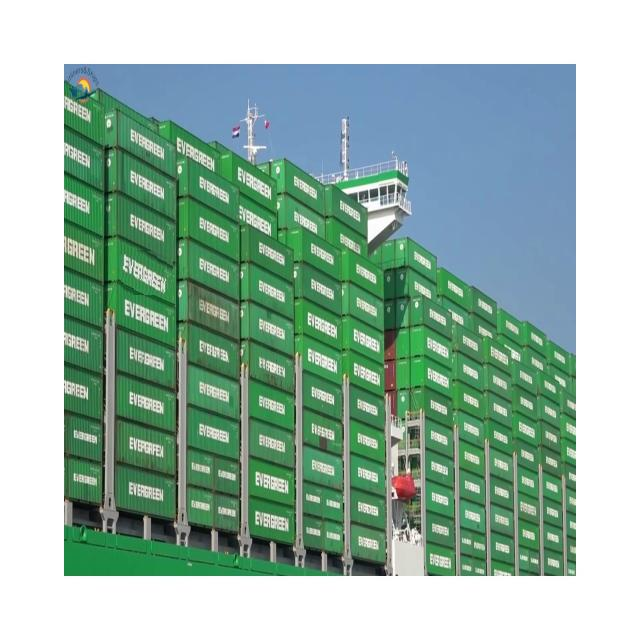OCR: (121, 248, 174, 295)
